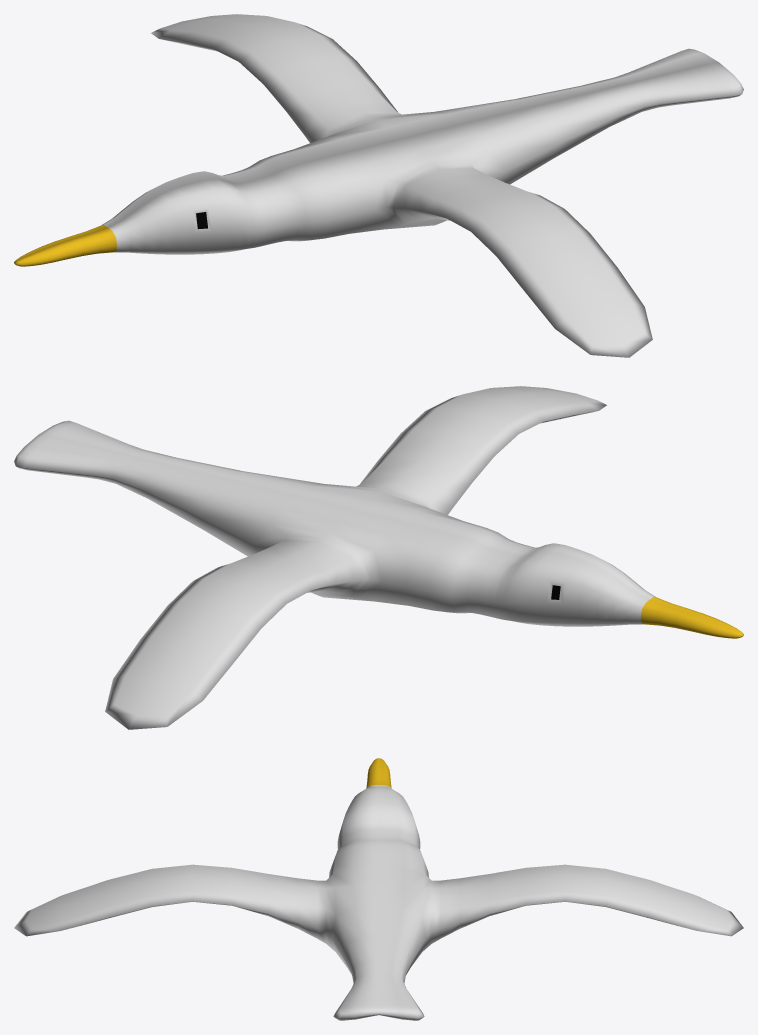
The model's file is seagull.glb.
3 views of the same model, one above another, from view 1: azimuth 30°, elevation 25°; view 2: azimuth 150°, elevation 25°; view 3: azimuth 270°, elevation 25° (orthographic). The views are drawn at different scales.
Parts seen in each view (by area): view 1: Cube; view 2: Cube; view 3: Cube.
Boxes of the visible parts, x1,y1,x2,y2 form: Cube: (14,14,743,357); Cube: (14,386,743,729); Cube: (14,758,743,1020).
Bounding box in the file's own units: 11.34 × 1.2 × 12.65.
